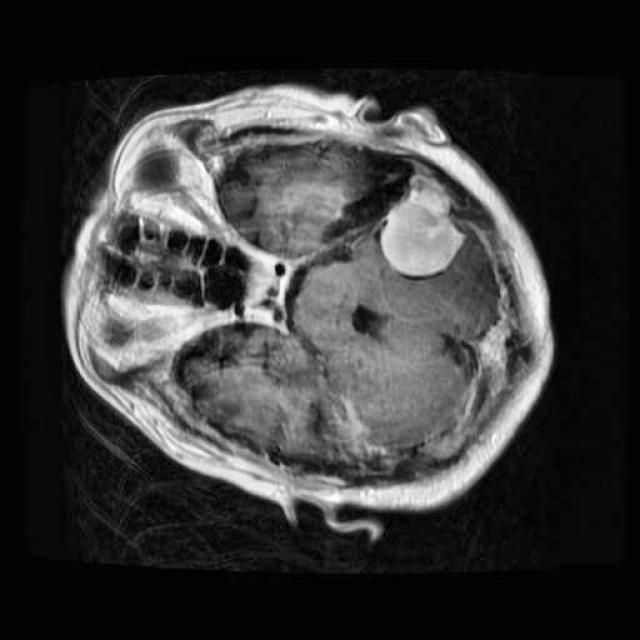Tumor: (364, 156, 472, 286)
